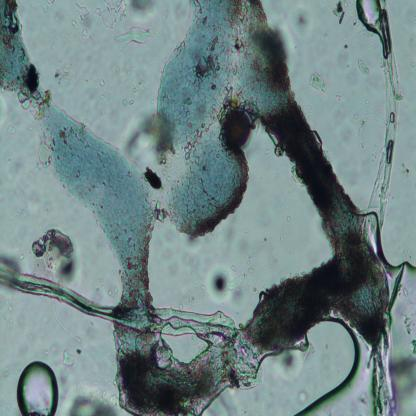Air bubble: (16, 358, 59, 416)
Background material: (29, 225, 76, 278), (67, 387, 118, 416), (68, 0, 96, 43), (116, 25, 152, 51), (99, 2, 130, 30), (206, 268, 230, 304), (228, 266, 254, 290), (145, 166, 164, 194), (291, 7, 310, 34), (64, 344, 83, 369), (330, 0, 349, 25), (127, 0, 154, 17), (311, 70, 329, 94), (357, 58, 371, 77)
Cellulose filter fibre: (0, 260, 240, 341), (368, 1, 401, 415)
